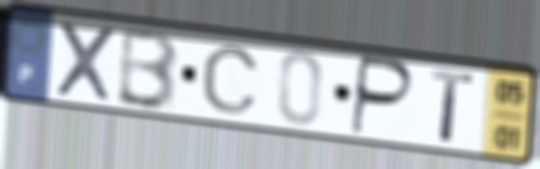0: (275, 48, 324, 128)
B: (112, 25, 181, 114)
C: (199, 43, 263, 116)
P: (347, 52, 418, 140)
T: (428, 66, 477, 146)
X: (52, 17, 119, 106)
